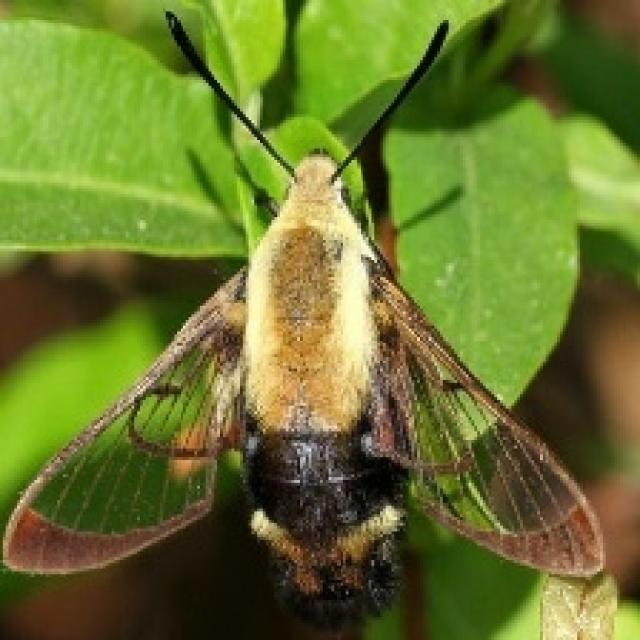butterfly: (0, 6, 606, 637)
